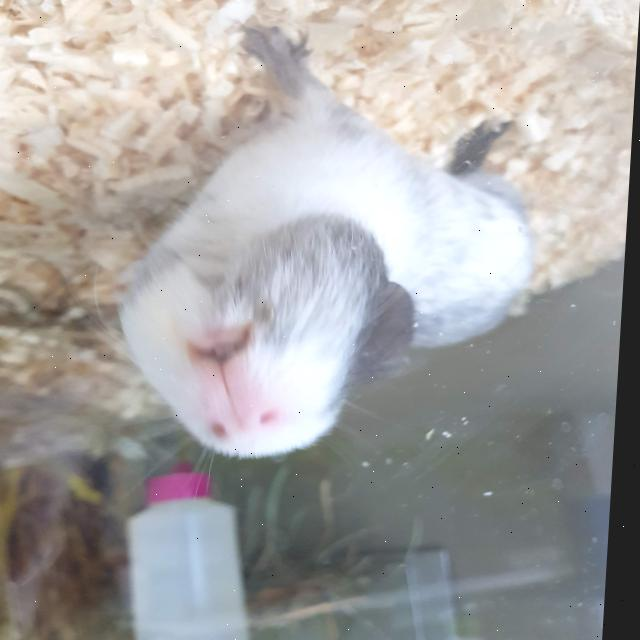guinea pig: (106, 23, 551, 463)
